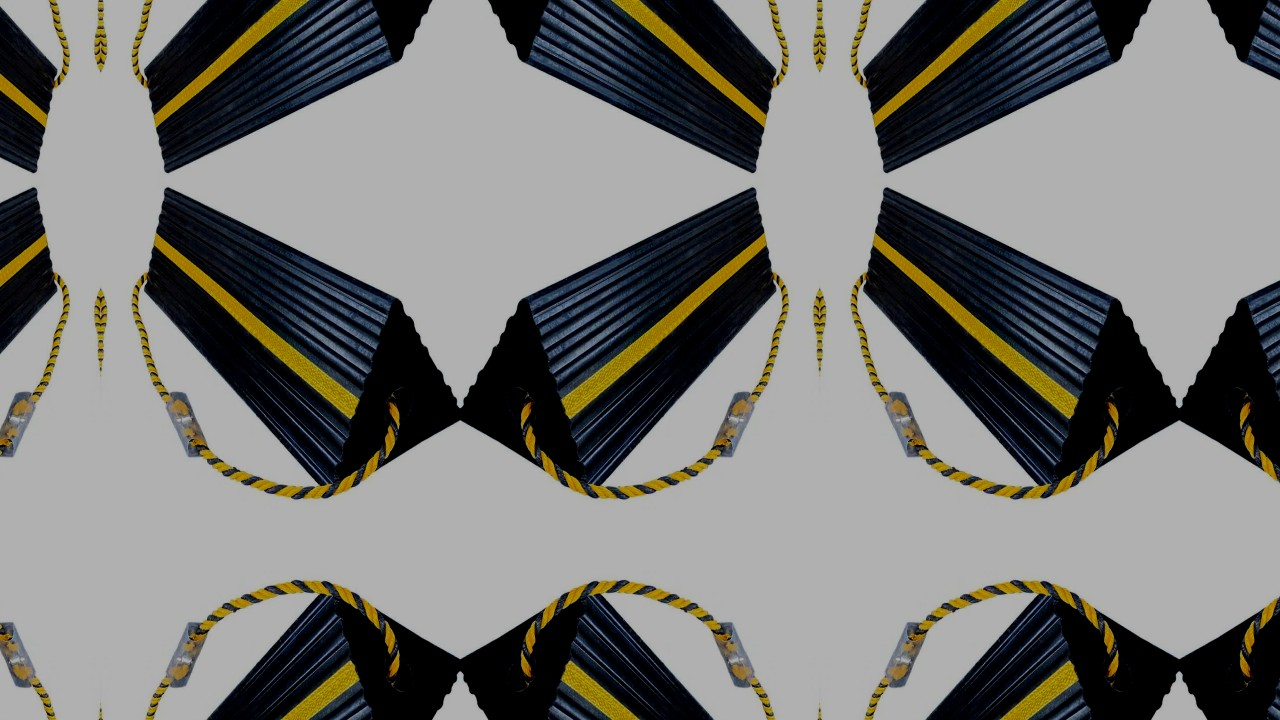chock: (133, 180, 460, 511), (460, 180, 787, 511), (853, 180, 1180, 511), (133, 0, 460, 180), (460, 0, 787, 180), (853, 0, 1180, 180), (133, 569, 460, 720), (460, 569, 787, 720), (853, 569, 1180, 720), (1180, 180, 1280, 511), (0, 180, 67, 511), (1180, 0, 1280, 180), (1180, 569, 1280, 720), (0, 0, 67, 180)
